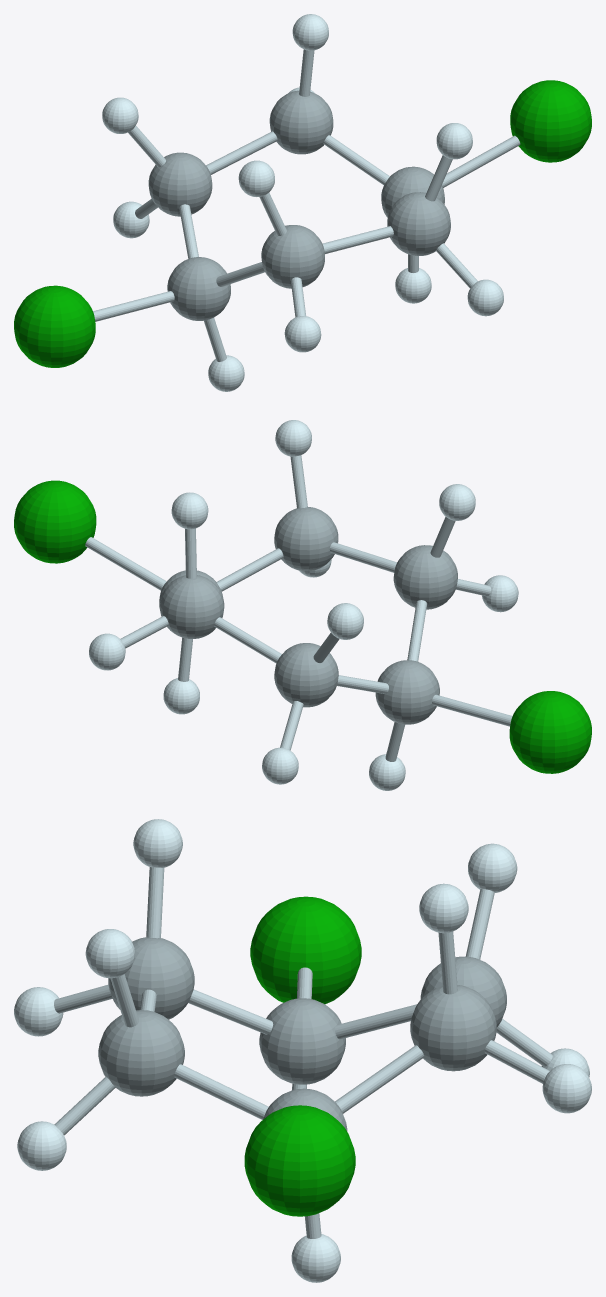
The model's file is irc_step_157.glb.
3 views of the same model, one above another, from view 1: azimuth 30°, elevation 25°; view 2: azimuth 150°, elevation 25°; view 3: azimuth 270°, elevation 25° (orthographic). The views are drawn at different scales.
Visible parts, largest first — view 1: Renderer Node; view 2: Renderer Node; view 3: Renderer Node.
Boxes of the visible parts, <box> form: Renderer Node: <box>14,14,591,391</box>; Renderer Node: <box>14,420,591,790</box>; Renderer Node: <box>14,819,591,1282</box>.
Bounding box in the file's own units: 7.12 × 3.6 × 4.66.
